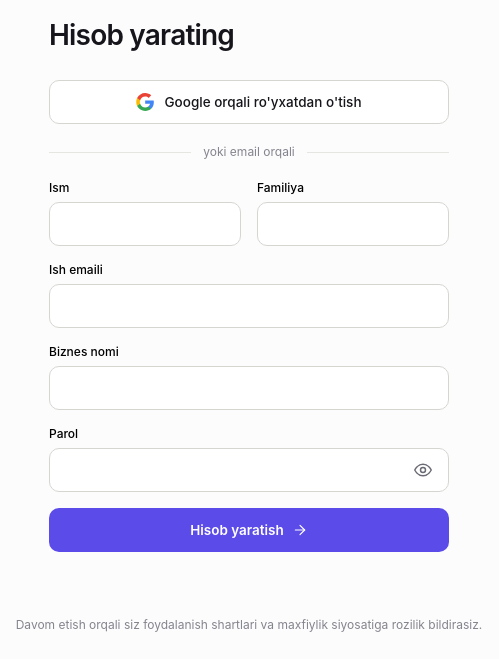
Test: auth page flows › retains the signup challenge and verifies it through the backend
Type "Ada" into the field with id "register-first-name" at {"x": 145, "y": 224}, box 49,202 -> 241,246
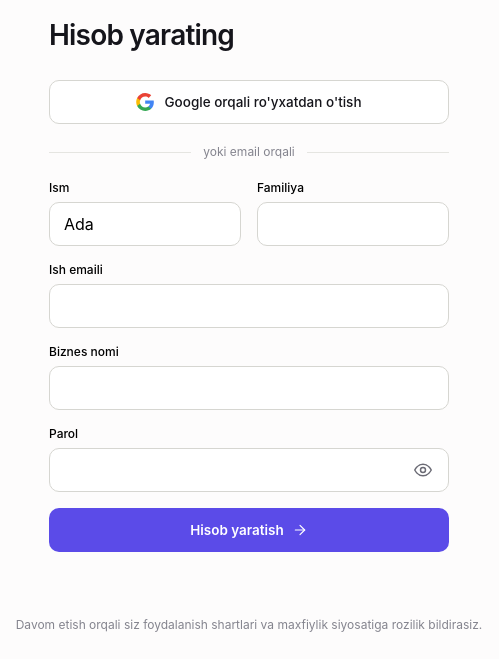
Type "Lovelace" into the field with id "register-last-name" at {"x": 353, "y": 224}, box 257,202 -> 449,246
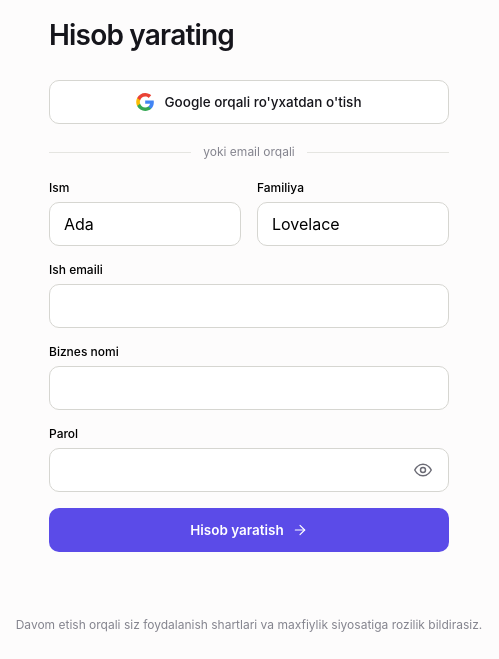
Type "user@example.com" into the field with id "register-email" at {"x": 249, "y": 306}, box 49,284 -> 449,328
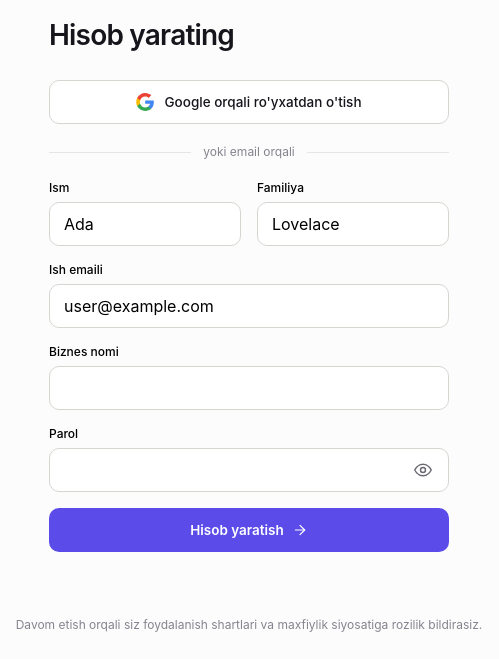
Type "Analytical Engines" into the field with id "register-business" at {"x": 249, "y": 388}, box 49,366 -> 449,410
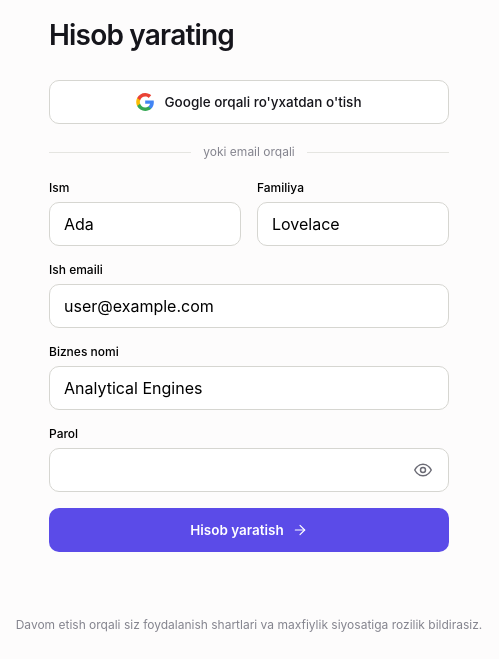
Type "secret-password" into the password field with id "register-password" at {"x": 249, "y": 470}, box 49,448 -> 449,492
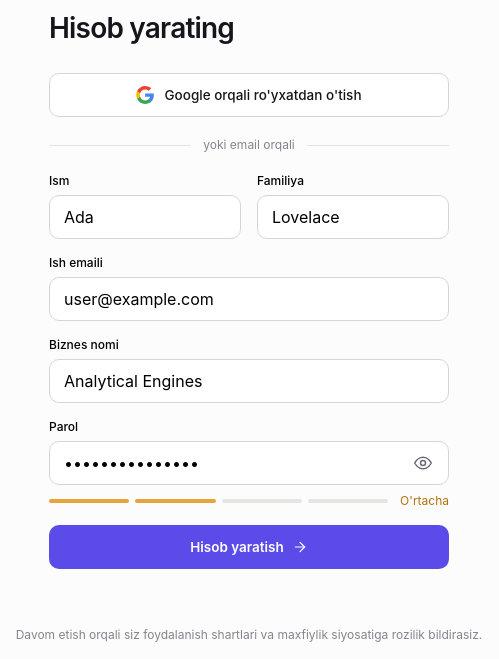
Submit the form, box 49,173 -> 449,569
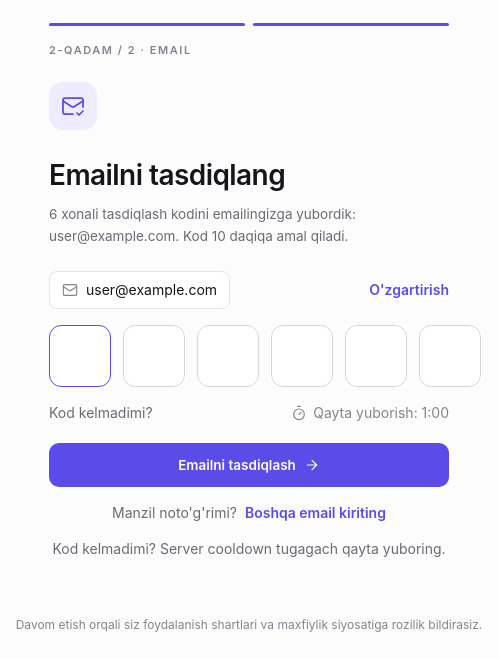
Now the text "Emailni tasdiqlang" is shown, box 49,158 -> 285,192
